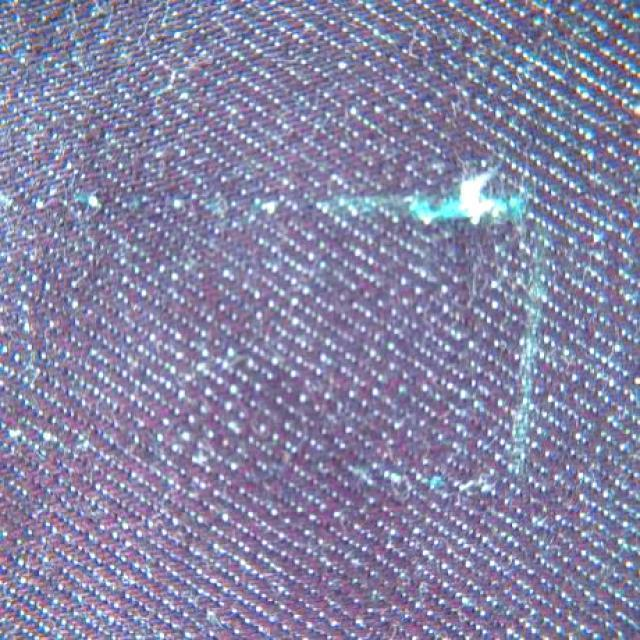Thread_other: (194, 136, 562, 272)
